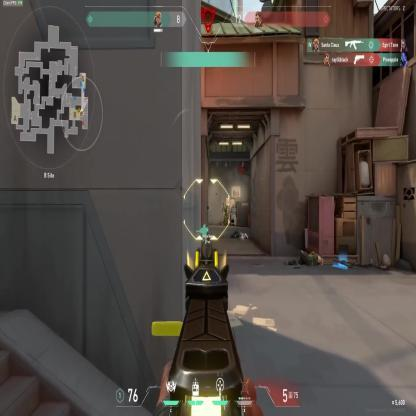enemy: (222, 200, 229, 226)
enemy_head: (224, 202, 226, 206)
